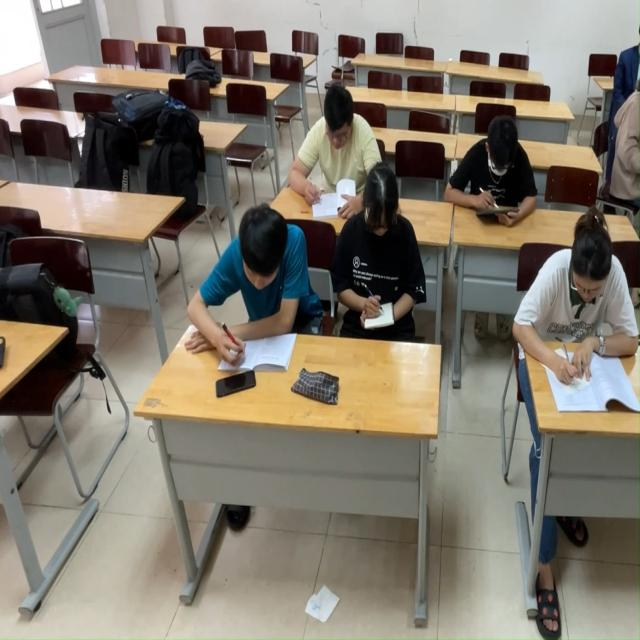read: (515, 219, 640, 426), (187, 197, 315, 377), (336, 172, 425, 334), (442, 102, 536, 221), (294, 75, 368, 221)
